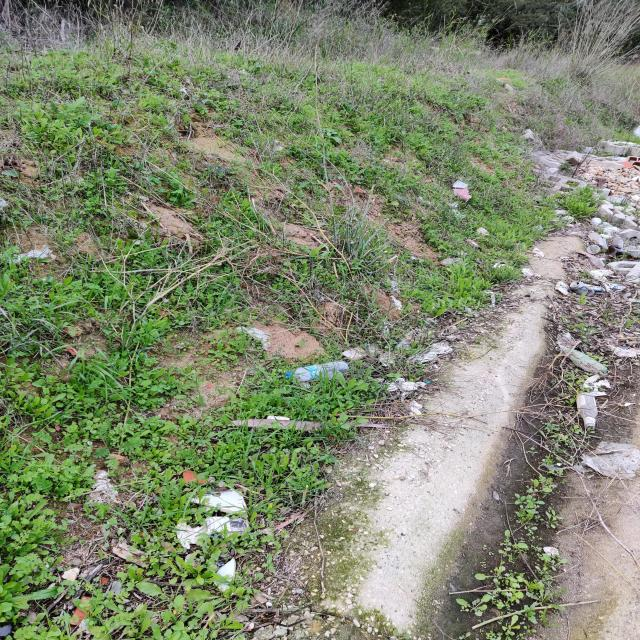litter: (286, 361, 349, 382), (574, 391, 595, 433), (608, 248, 638, 260), (570, 280, 592, 296)
